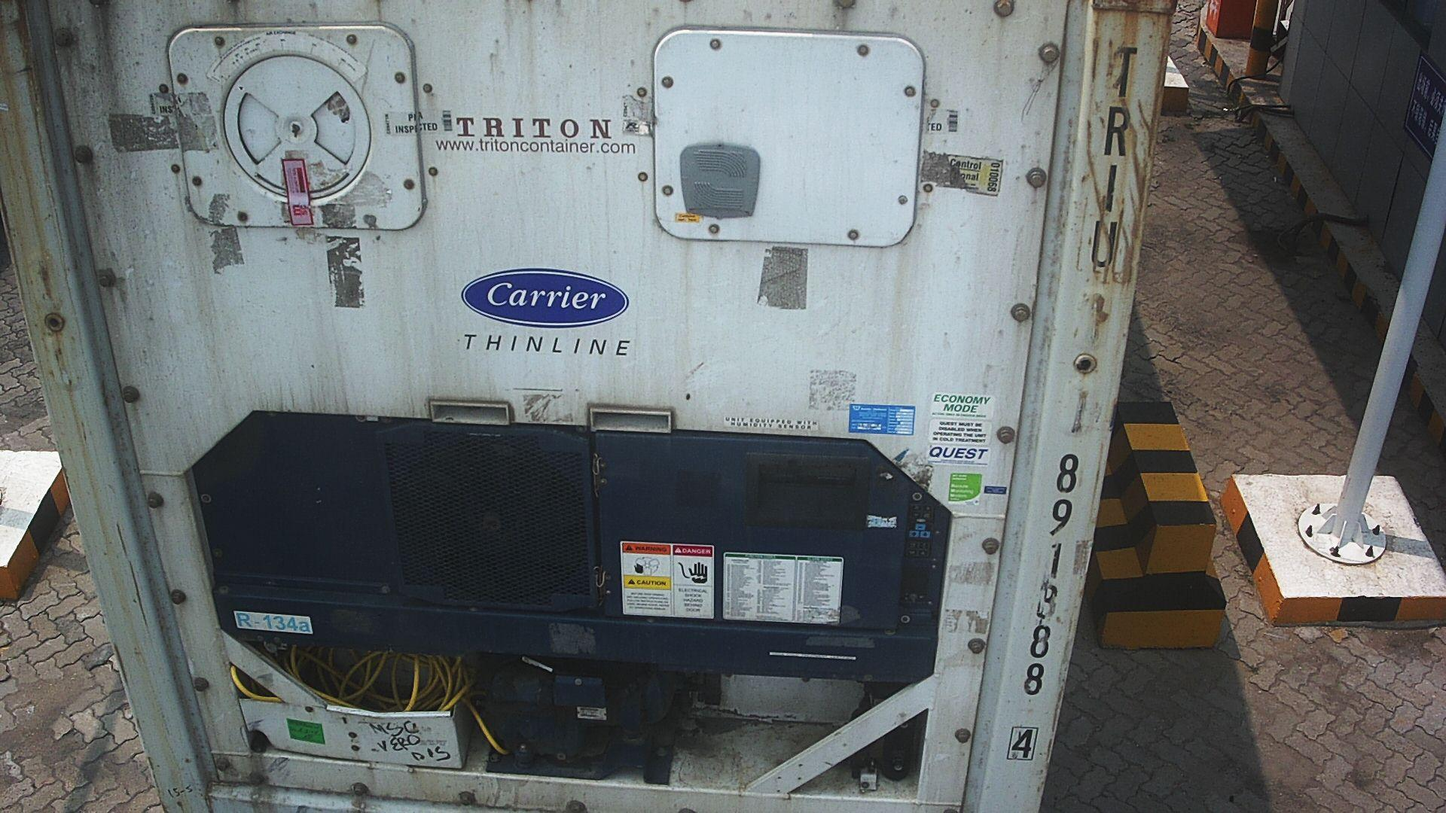container-numbers: (1001, 448, 1086, 768), (1080, 40, 1145, 284)
